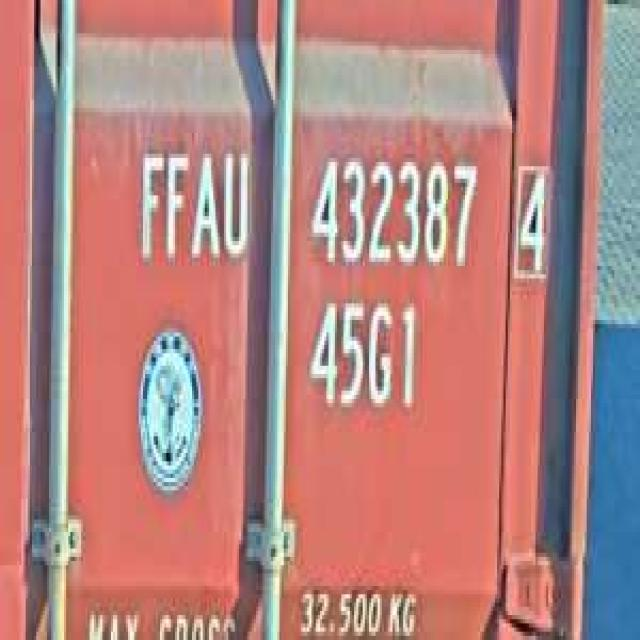dv: (510, 150, 552, 282)
owner: (132, 133, 254, 274)
serial: (305, 142, 484, 278)
size: (303, 287, 422, 424)
